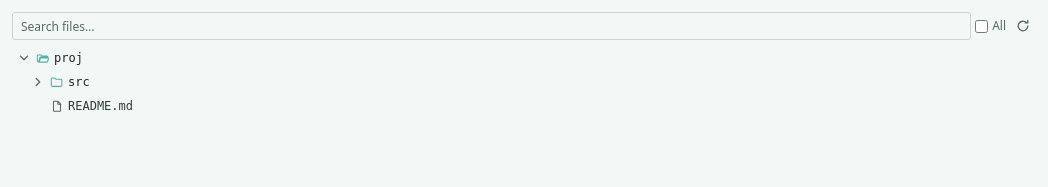
Test: FileTree 右键菜单 › Esc 关闭菜单
Right-click the button "src": coordinates (38, 82) [26, 72, 1012, 92]
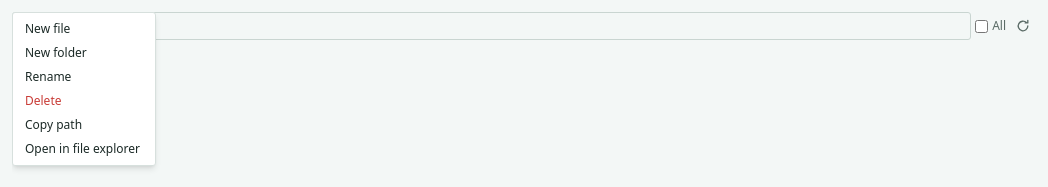
Now the menu is shown, box [12, 12, 156, 166]
Press Escape
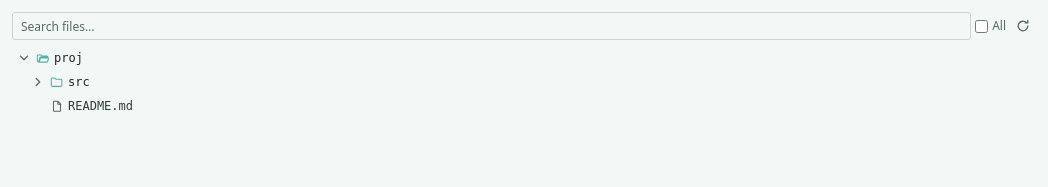
Now the menu is gone
